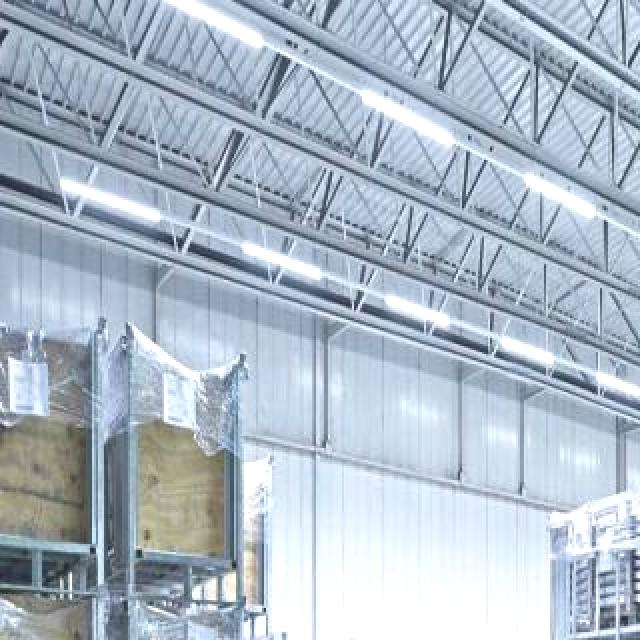fluorescent tube: (42, 174, 174, 234), (146, 0, 277, 60), (353, 89, 465, 155), (503, 160, 605, 227), (234, 240, 342, 298), (378, 283, 464, 341), (484, 325, 558, 375), (582, 366, 640, 402), (632, 232, 640, 280)
